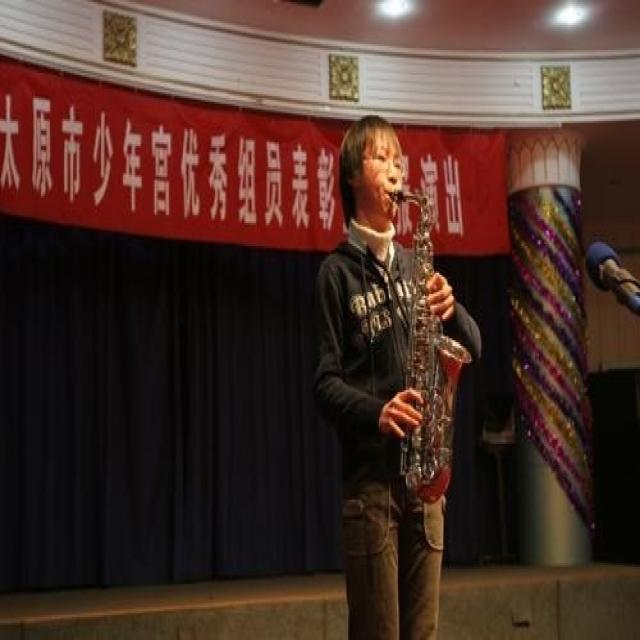saxophone: (386, 184, 472, 505)
